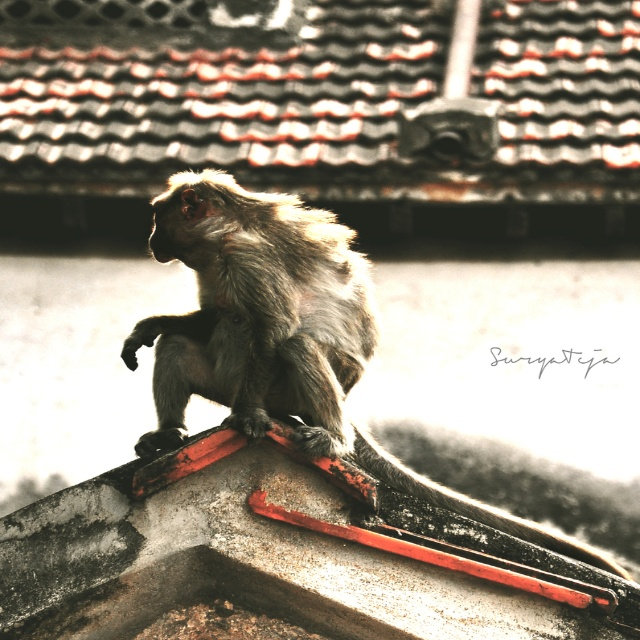Monkey: (119, 166, 633, 584)
